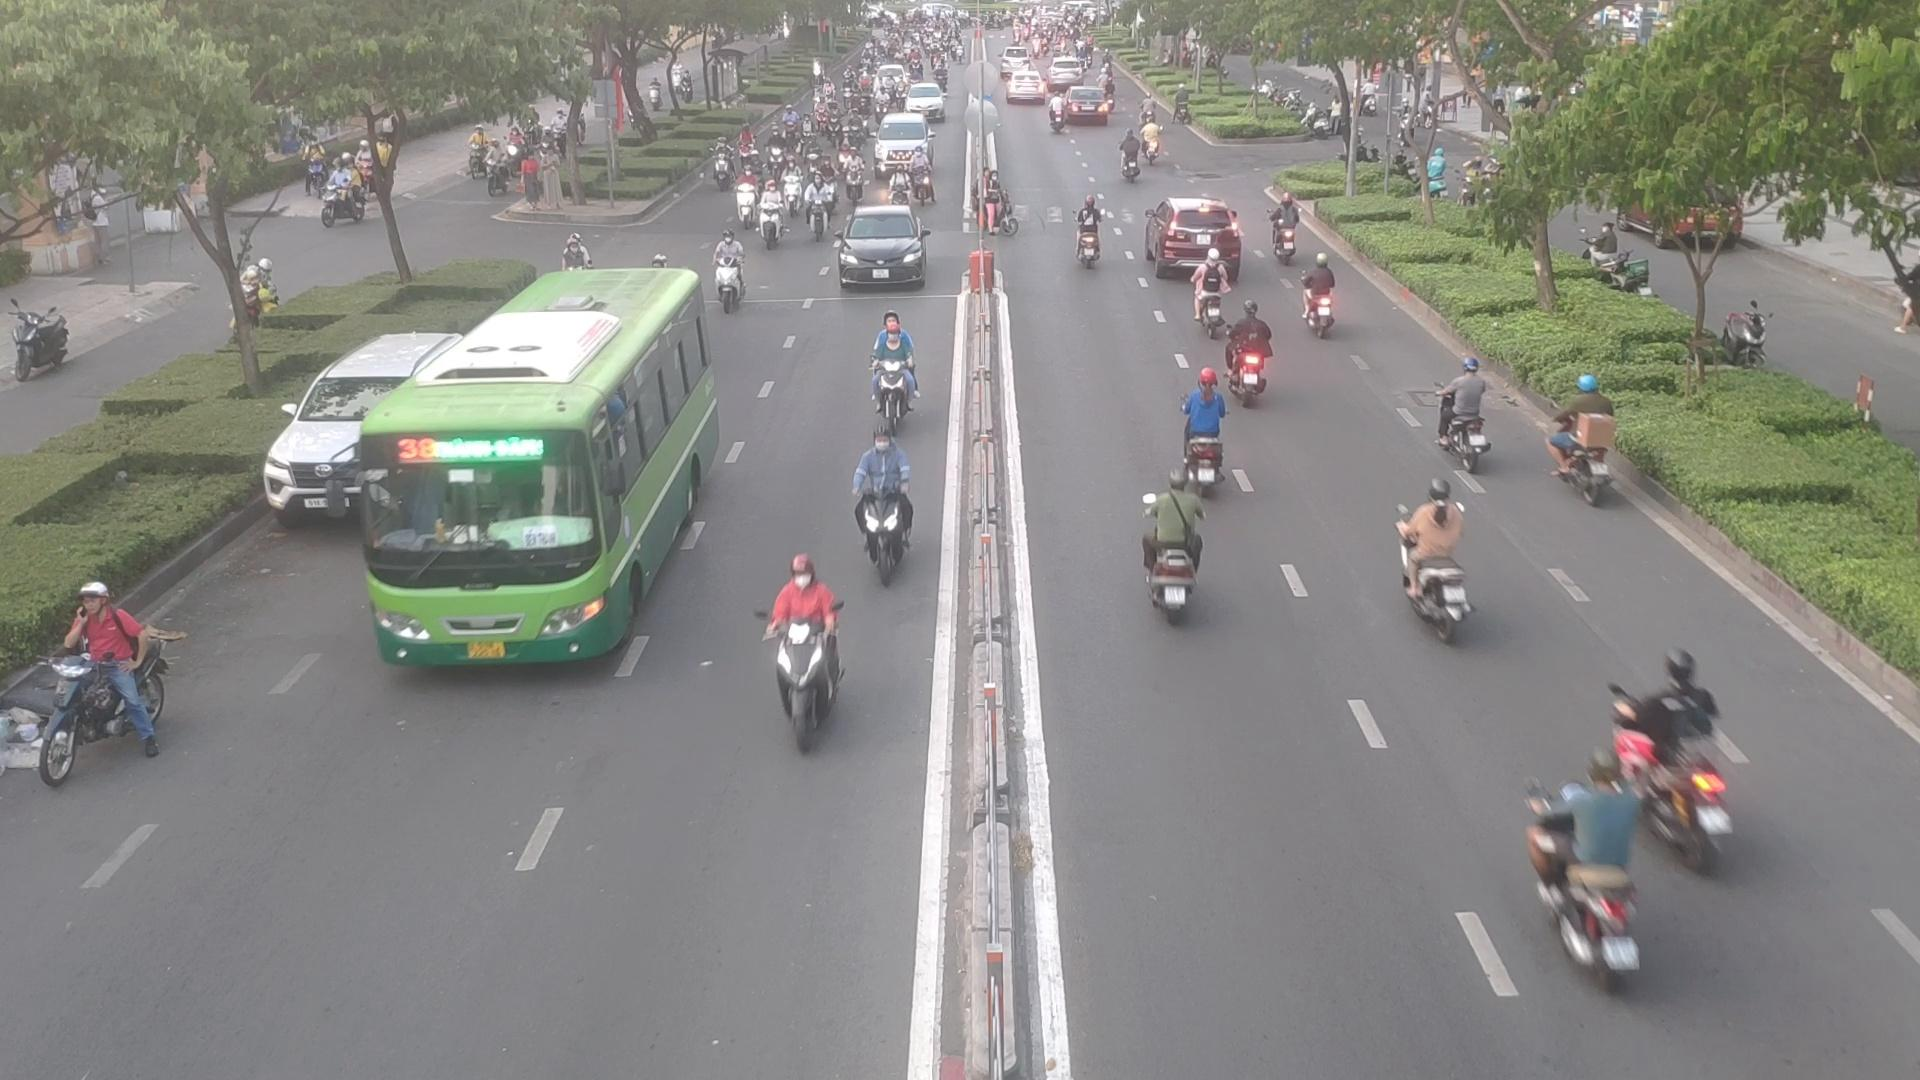bus: (364, 266, 702, 673)
car: (1146, 191, 1246, 277), (829, 208, 930, 291)
motorbike: (16, 584, 170, 773), (1531, 775, 1662, 996), (1630, 680, 1741, 868), (769, 567, 851, 741), (1400, 495, 1485, 640), (848, 436, 922, 580), (1549, 375, 1633, 501), (1131, 484, 1205, 617), (1433, 361, 1506, 468), (1179, 369, 1229, 489), (1222, 313, 1284, 405), (861, 316, 918, 415), (1292, 268, 1342, 342), (1193, 247, 1234, 330), (709, 235, 752, 309), (975, 185, 1030, 239), (1068, 198, 1110, 268), (746, 196, 787, 252), (909, 156, 942, 207), (1118, 137, 1153, 183), (839, 152, 869, 202)
